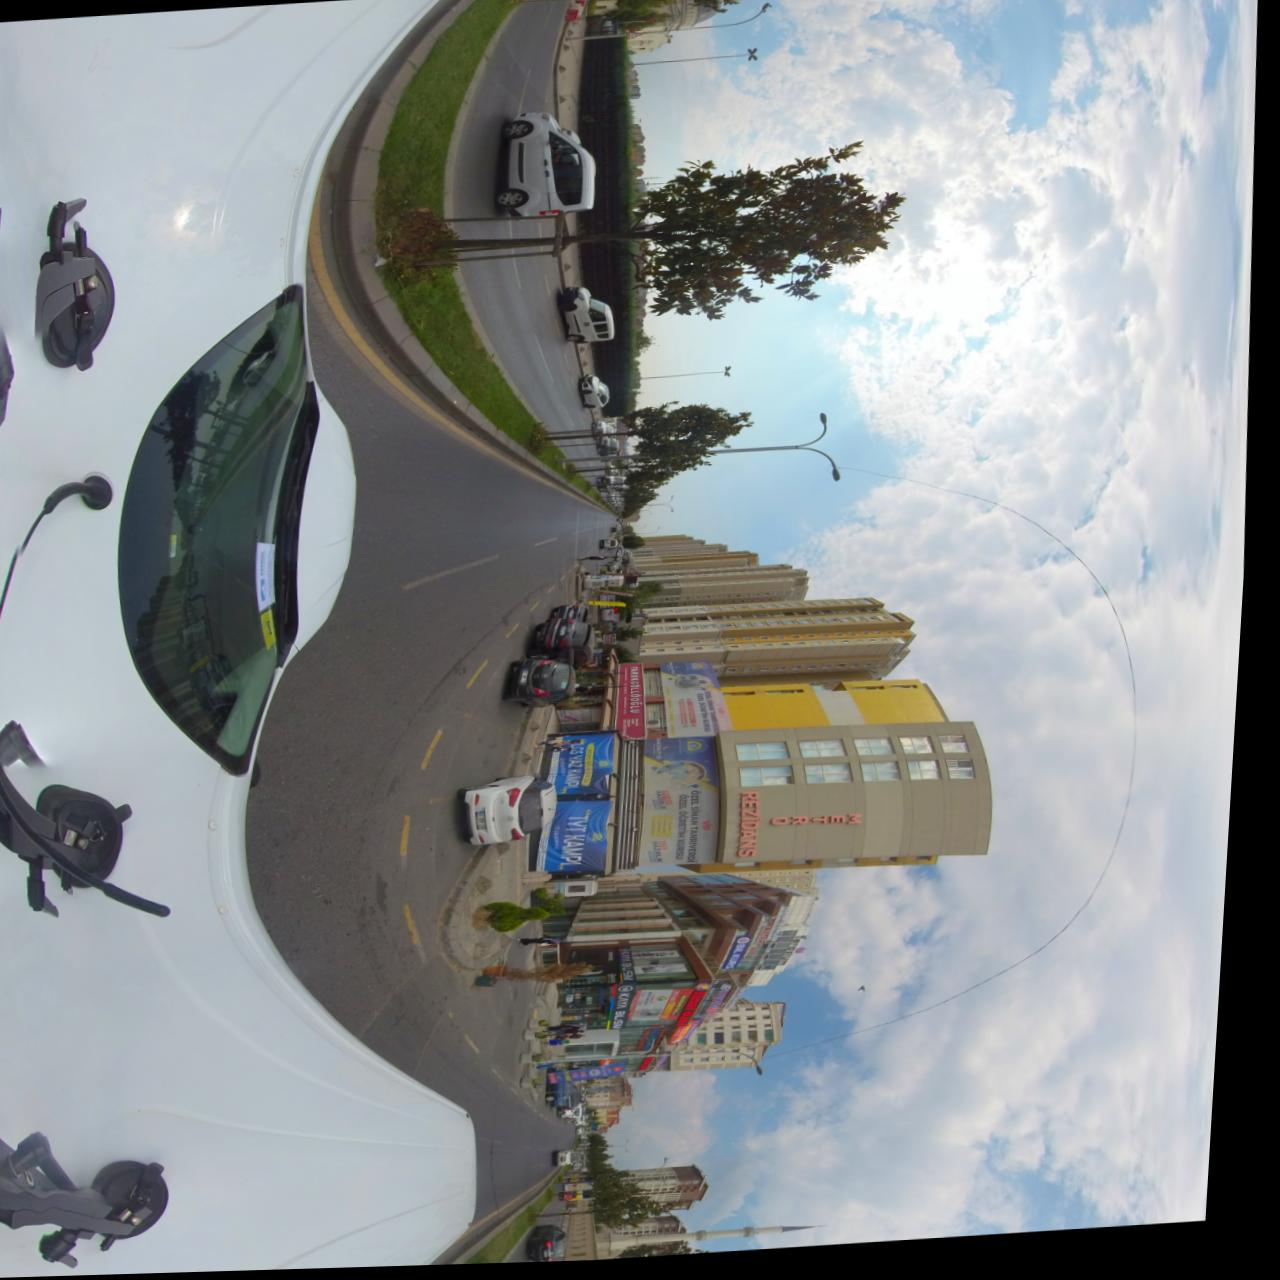SignStore: (625, 667, 653, 738), (621, 989, 647, 1034), (688, 996, 717, 1030), (788, 940, 818, 972), (733, 941, 762, 973), (631, 952, 647, 986), (651, 1061, 667, 1075)
